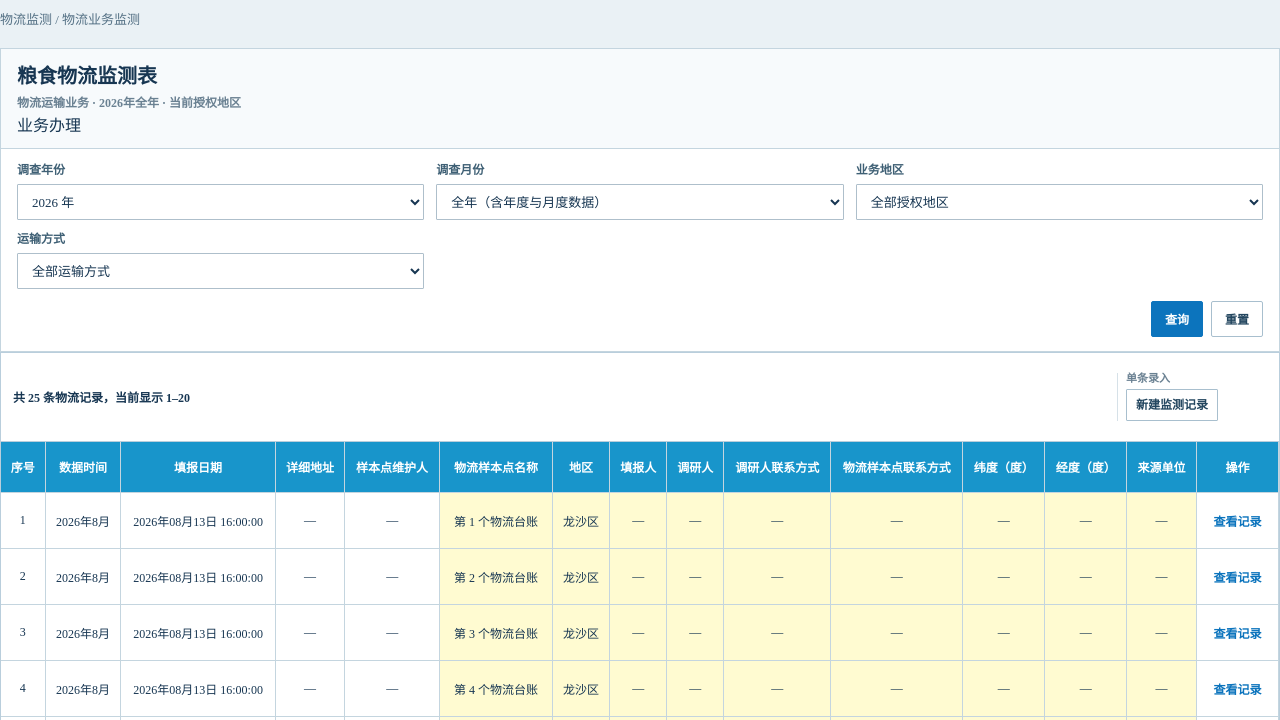
Test case: logistics monitoring workspace › loads the next persisted logistics page from the backend
Check: the text "第 1 个物流台账" is shown, box [439, 493, 553, 549]
Step 1. Select "齐齐哈尔市 / 龙沙区" in the dropdown labelled "业务地区" → (1059, 202), box [856, 184, 1263, 220]
(page scrolled)
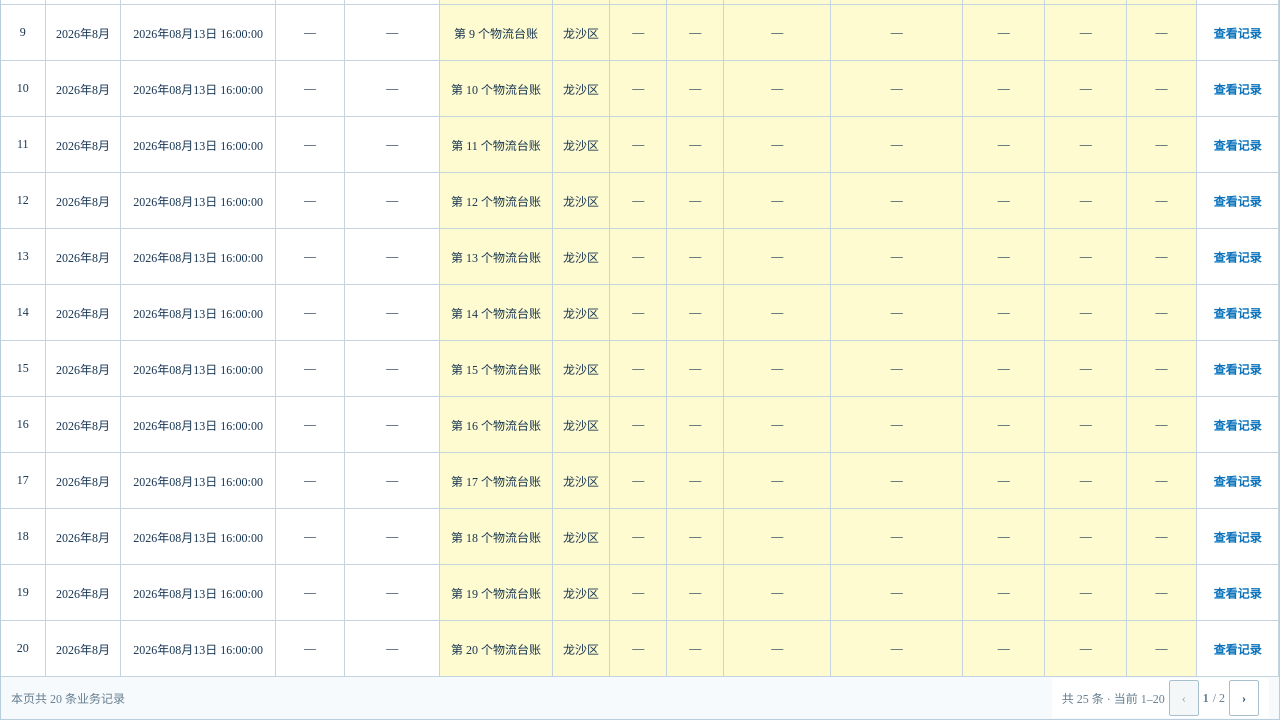
Step 2. Click the button named "下一页" → (1244, 698), box [1229, 680, 1259, 716]
(page scrolled)
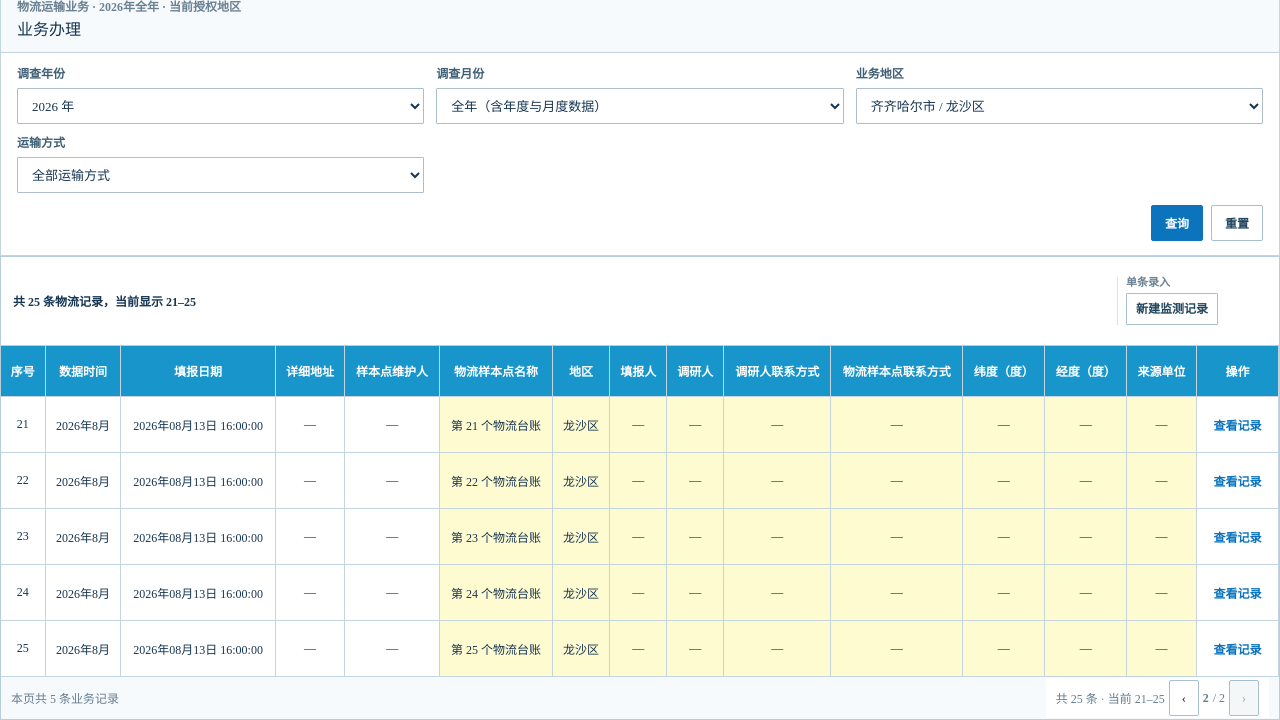
Check: the text "第 21 个物流台账" is shown, box [439, 397, 553, 453]
